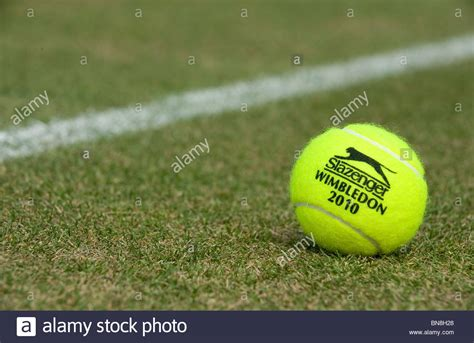tennis_ball: (289, 121, 431, 257)
